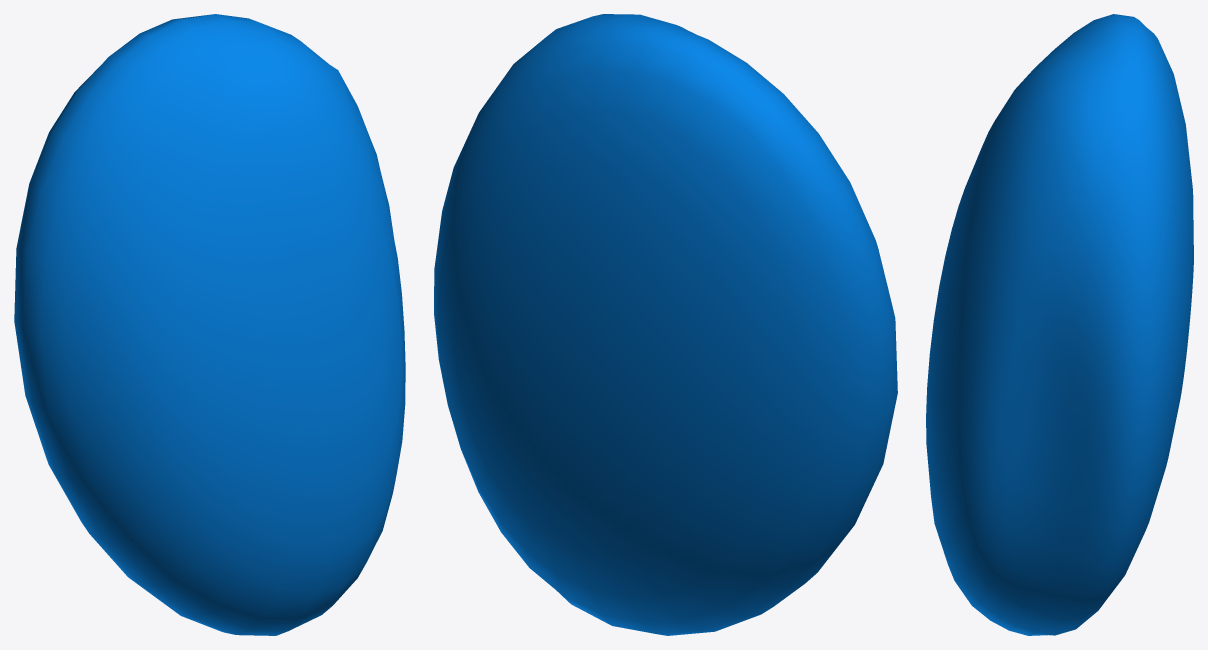
Rendered from blob-right-hand.glb.
The picture shows the model from 3 angles, left to right: view 1: azimuth 30°, elevation 25°; view 2: azimuth 150°, elevation 25°; view 3: azimuth 270°, elevation 25°; orthographic projection. The views are drawn at different scales.
Visible parts, largest first — view 1: Sphere.002; view 2: Sphere.002; view 3: Sphere.002.
Boxes of the visible parts, x1,y1,x2,y2 form: Sphere.002: (14,14,405,635); Sphere.002: (434,14,897,635); Sphere.002: (926,14,1193,635).
Size of the model in its own units: 0.6697 by 0.9858 by 0.4133.
